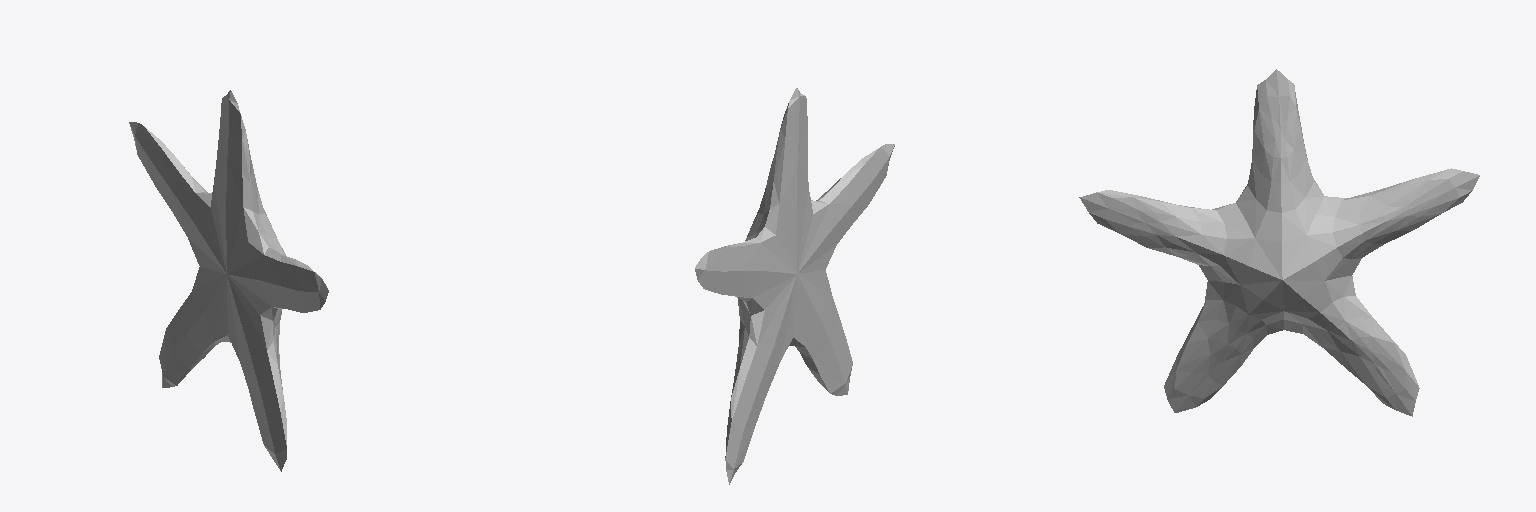
Rendered from redstarfish1UV.obj.
3 views of the same model, side by side, from view 1: azimuth 30°, elevation 25°; view 2: azimuth 150°, elevation 25°; view 3: azimuth 270°, elevation 25° (orthographic).
Visible parts, largest first — view 1: Plane; view 2: Plane; view 3: Plane.
Boxes of the visible parts, box(x1,y1,x2,y2) form: Plane: box(129, 90, 328, 471); Plane: box(695, 88, 894, 484); Plane: box(1079, 69, 1479, 416).
Bounding box in the file's own units: 0.8525 × 4.86 × 5.07.